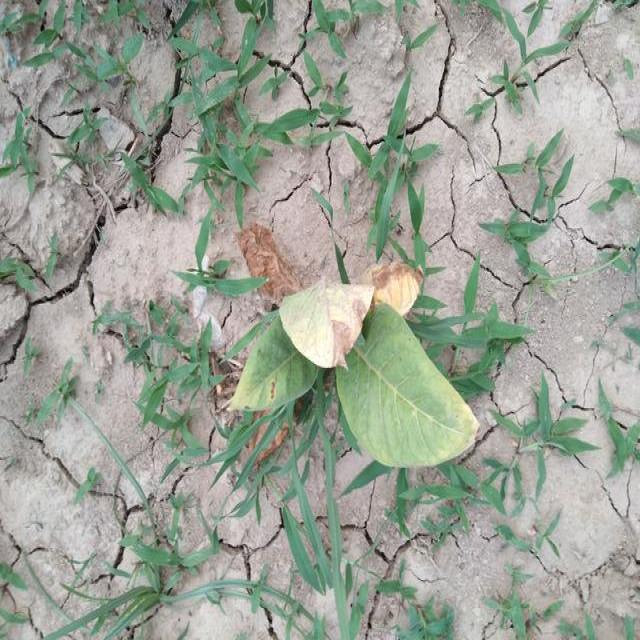crop: (224, 255, 483, 464)
